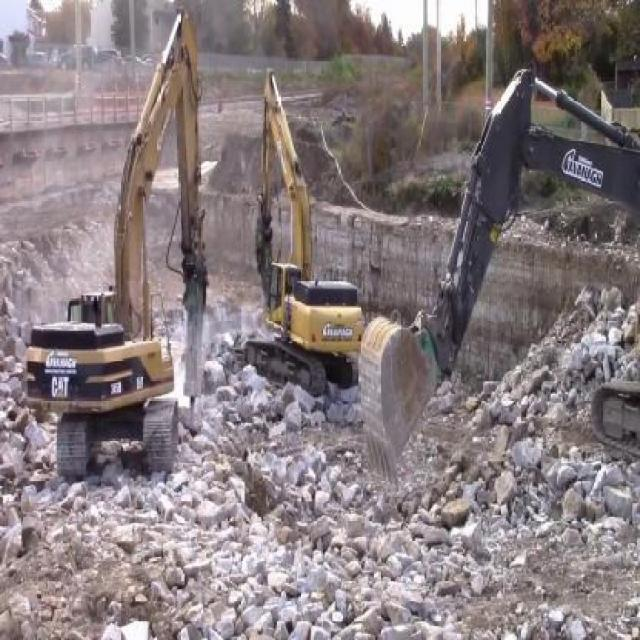Excavator: (350, 47, 638, 465), (21, 0, 214, 485), (245, 48, 363, 400)
